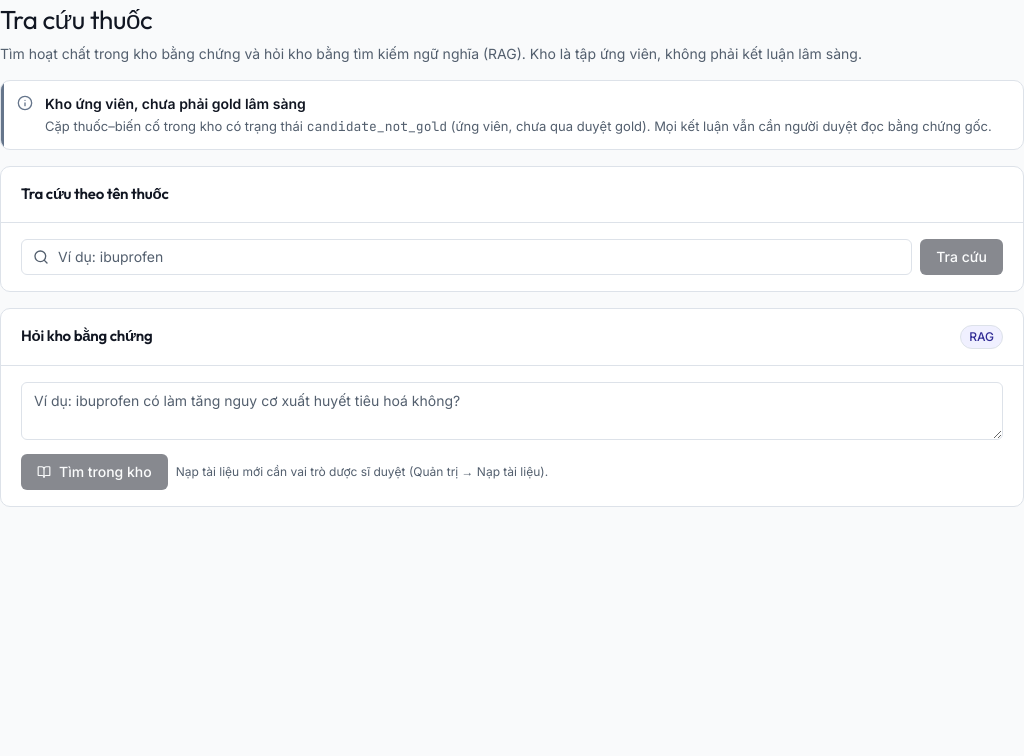
Scenario: /app/drugs — tìm kiếm ngữ nghĩa RAG › không có đoạn nào phù hợp thì hiện trạng thái rỗng của kho
In the field named "Tên thuốc cần tra cứu": (467, 257) top-left (21, 239), bottom-right (912, 275), type "ibuprofen"
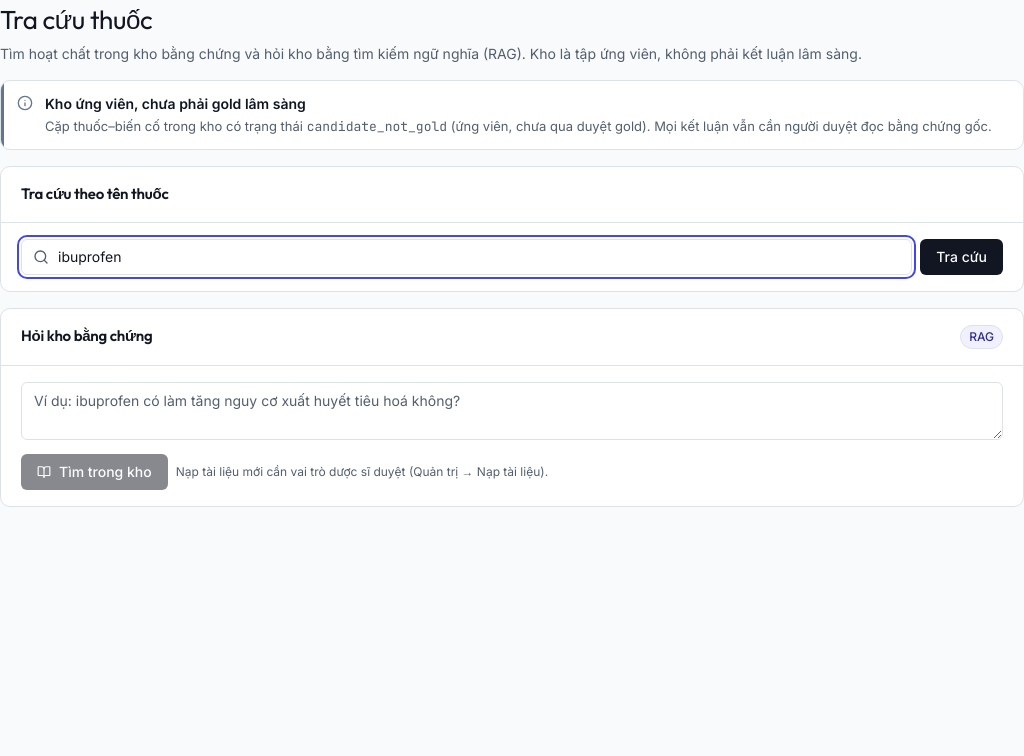
Click the button "Tra cứu": (962, 257) top-left (920, 239), bottom-right (1003, 275)
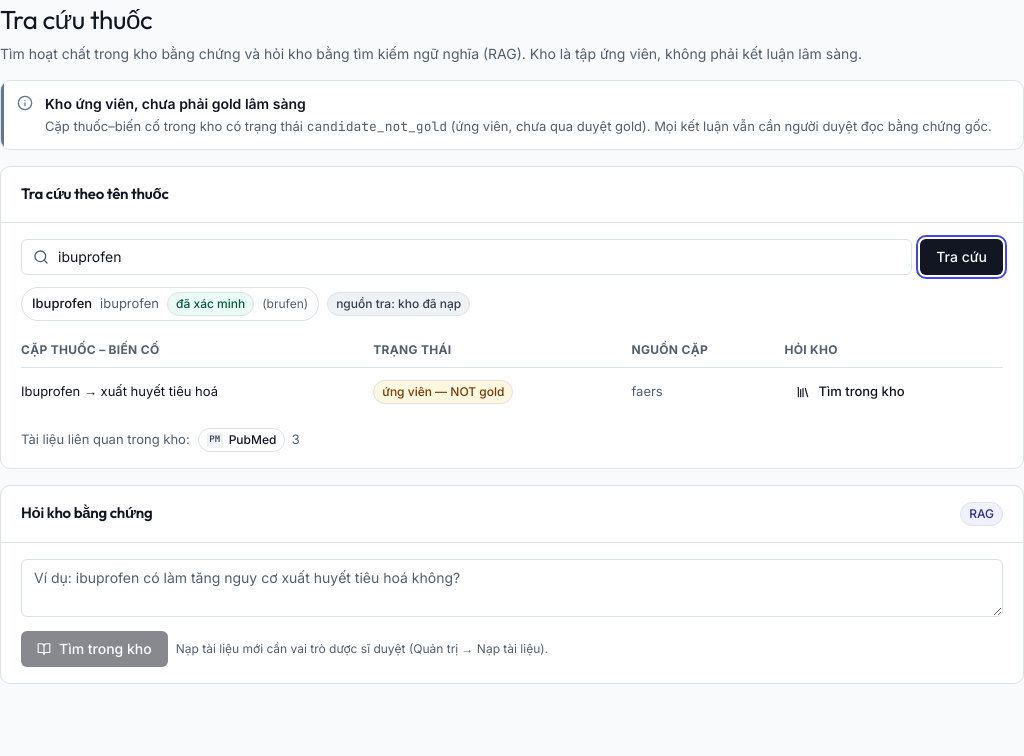
Click the button "Tìm trong kho" in the row of "xuất huyết tiêu hoá": (851, 392) top-left (784, 376), bottom-right (917, 408)
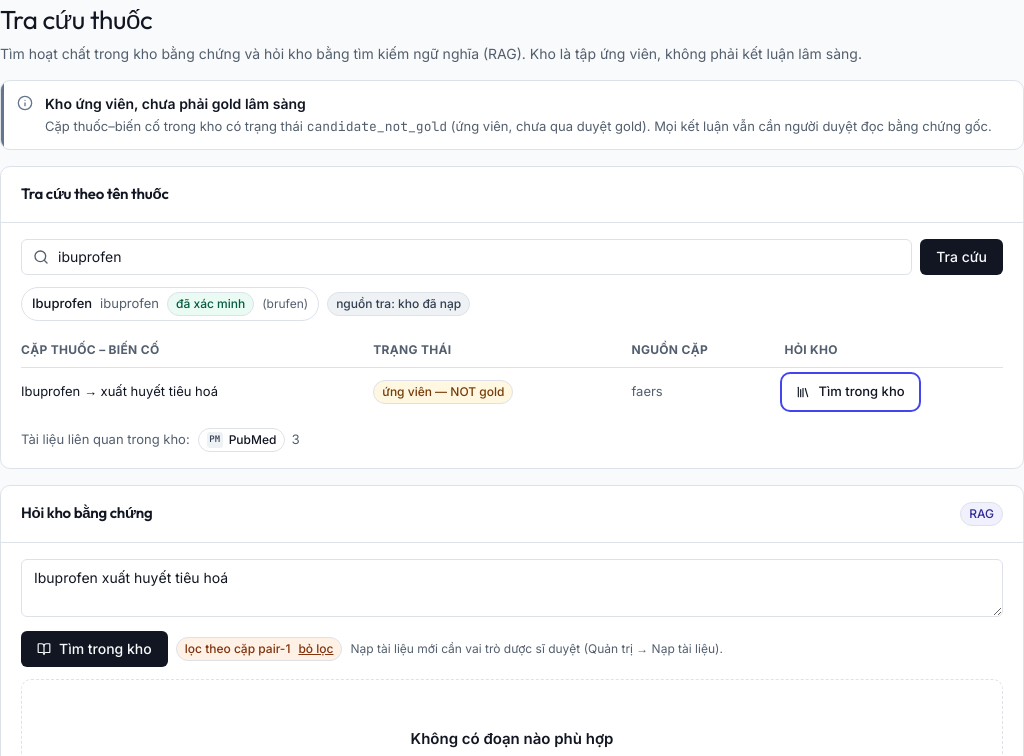
Expected: the text "Không có đoạn nào phù hợp" is shown, top-left (411, 729), bottom-right (613, 748)
